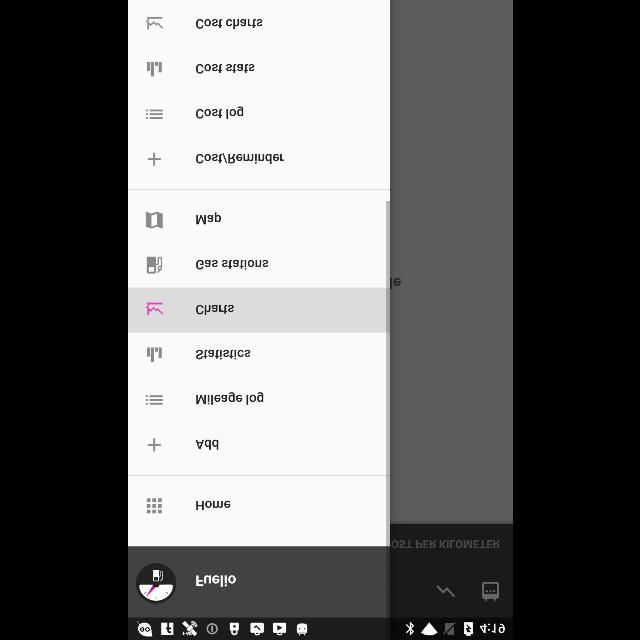icon: (481, 582, 499, 600), (144, 212, 162, 228), (146, 498, 162, 514), (145, 16, 163, 29), (146, 348, 162, 362), (146, 302, 162, 316), (146, 62, 162, 76), (145, 394, 163, 406), (145, 109, 163, 119), (148, 438, 160, 452), (148, 152, 160, 166)
image: (134, 562, 176, 604), (146, 256, 162, 274), (436, 585, 454, 597)
panel: (127, 0, 389, 618)
text: (391, 539, 499, 549), (195, 154, 283, 164), (194, 18, 262, 30), (195, 392, 263, 404), (195, 259, 268, 269), (195, 106, 243, 120), (194, 348, 250, 359), (194, 64, 253, 74), (194, 575, 236, 587), (195, 304, 233, 316), (194, 501, 230, 512), (196, 212, 220, 224), (195, 440, 218, 450)
uppertaskbar: (128, 617, 512, 639)
